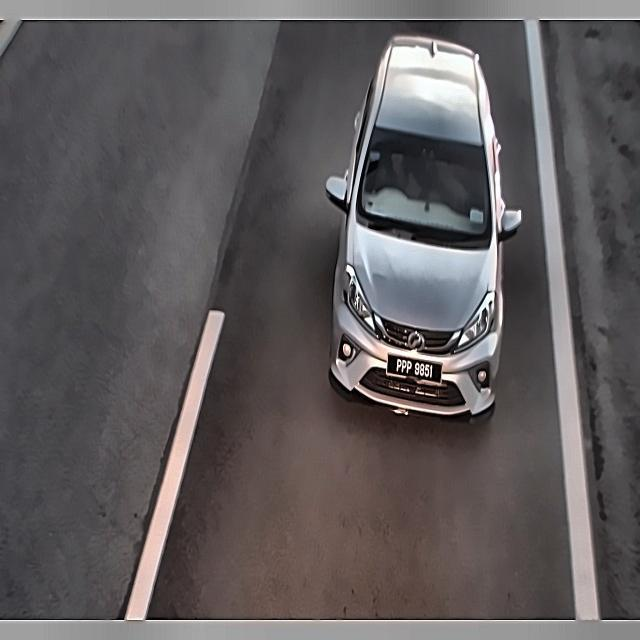car: (387, 342, 442, 392)
